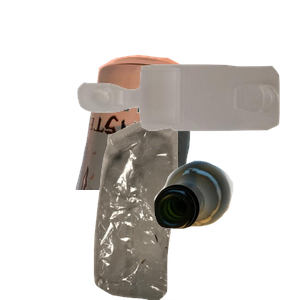glass: (151, 158, 300, 300)
metal: (73, 52, 263, 232)
plastic: (75, 62, 300, 186)
trash: (70, 120, 256, 300)
